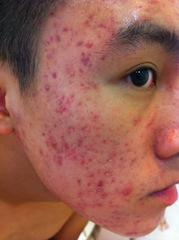fore: (81, 40, 104, 56), (121, 185, 139, 203), (57, 134, 74, 150), (73, 80, 96, 91), (75, 54, 94, 66), (40, 140, 59, 152), (65, 124, 81, 138), (93, 176, 107, 190), (38, 80, 51, 95), (72, 67, 88, 79), (46, 32, 62, 42), (65, 153, 77, 166), (56, 23, 71, 33), (106, 152, 116, 167), (77, 118, 88, 131), (145, 114, 156, 127), (95, 19, 110, 28), (49, 102, 61, 113), (47, 154, 58, 166), (17, 132, 28, 143), (91, 201, 102, 212), (83, 11, 98, 19), (49, 65, 59, 77), (104, 167, 113, 180), (56, 94, 72, 101), (48, 127, 56, 141), (84, 153, 94, 164), (88, 144, 99, 154), (94, 29, 104, 40), (82, 178, 93, 188), (92, 155, 104, 164), (73, 176, 85, 185), (127, 155, 139, 164), (90, 111, 100, 121), (74, 191, 83, 202), (110, 136, 121, 145), (125, 227, 135, 236), (131, 116, 140, 126), (77, 19, 89, 26), (76, 139, 85, 148), (59, 106, 71, 112), (75, 156, 83, 165), (112, 208, 118, 220), (101, 135, 109, 144), (124, 145, 132, 154), (122, 127, 131, 135), (108, 199, 118, 206), (40, 121, 50, 128), (75, 98, 83, 106), (121, 139, 129, 147), (99, 189, 106, 198), (75, 40, 82, 48), (133, 219, 142, 224), (39, 130, 44, 138)
